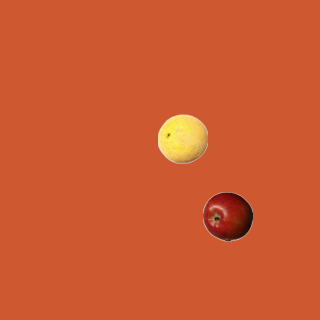Apple Braeburn: (202, 191, 252, 241)
Cantaloupe 1: (157, 113, 207, 163)
